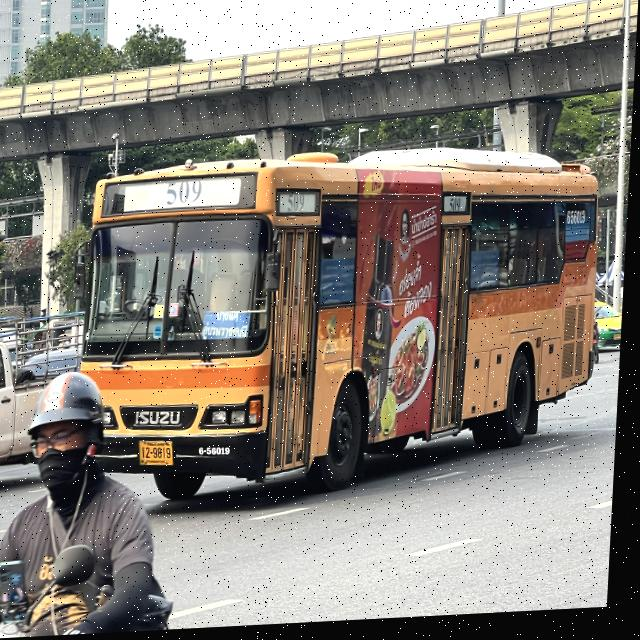BMTA-bus: (76, 145, 611, 509)
Bus-Line-Number: (161, 179, 206, 209), (284, 194, 311, 218)
Destination-Sign-Normal: (207, 312, 253, 342)
